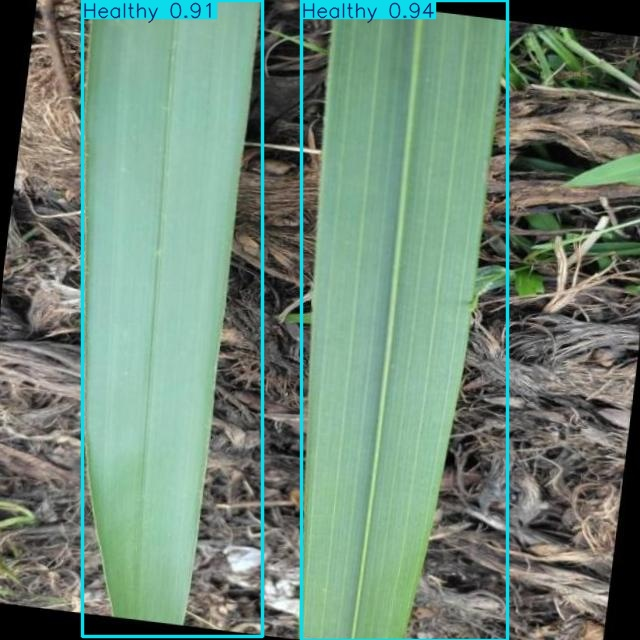Healthy: (302, 0, 507, 640), (82, 0, 263, 636)
